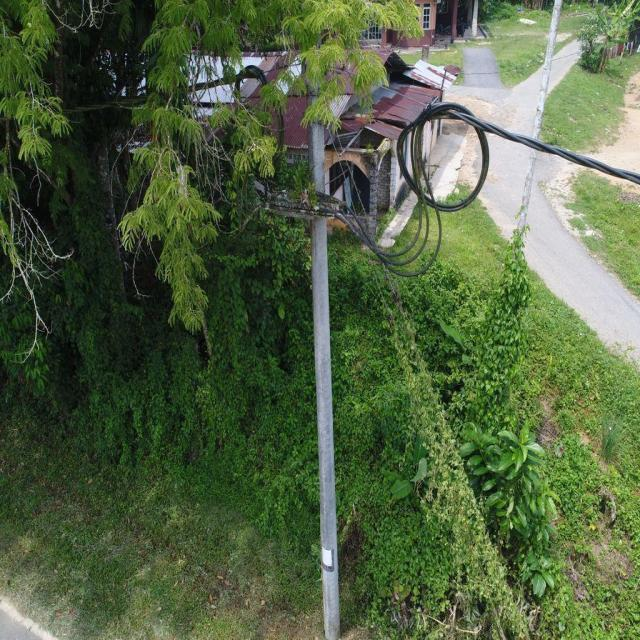critical vegetation: (366, 261, 538, 635)
